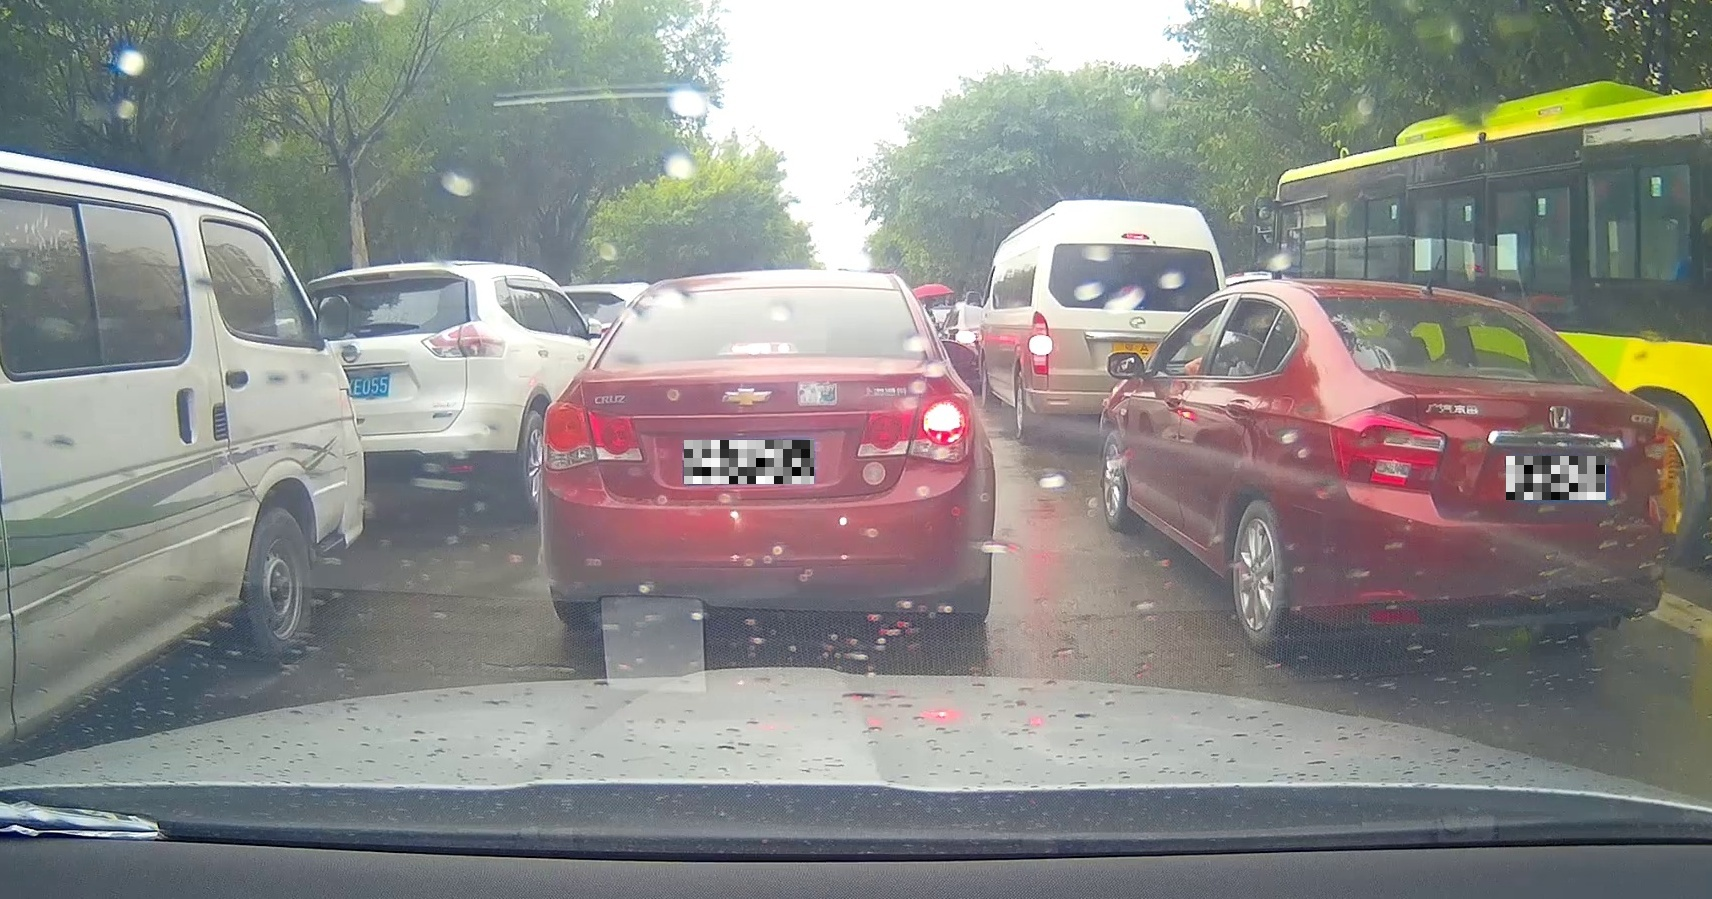L_light: (1328, 408, 1447, 494), (541, 400, 645, 471)
R_light: (855, 392, 975, 463), (1623, 437, 1678, 504)
T_light: (718, 343, 801, 357), (1470, 367, 1538, 382)
day-no: (1290, 279, 1679, 663)
day-right: (538, 268, 996, 632)
plate_1: (684, 440, 814, 483)
plate_2: (1506, 456, 1606, 500)
